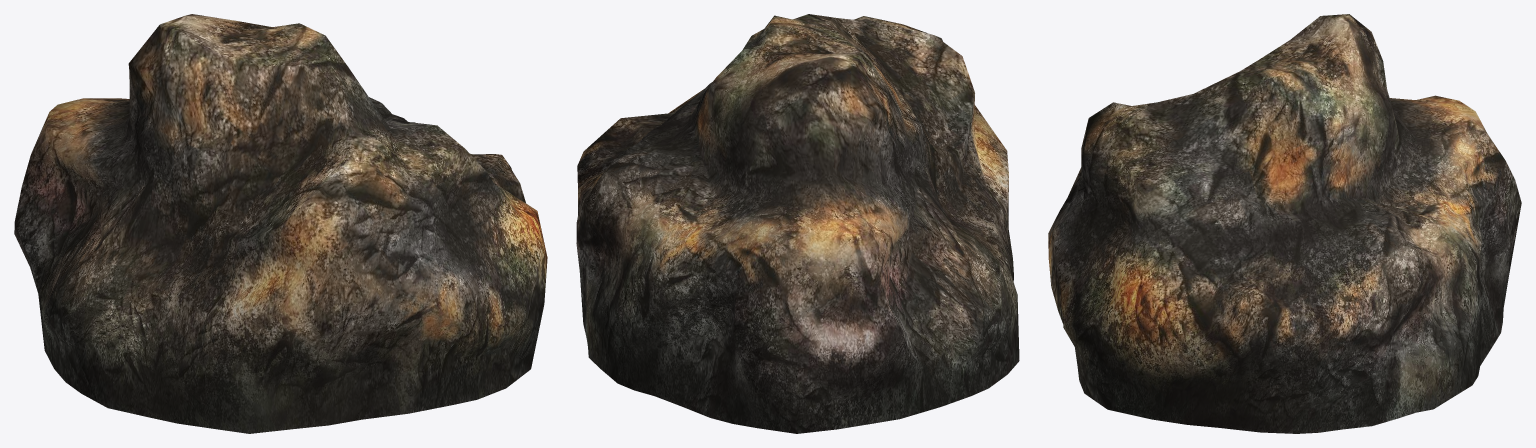
Rendered from iron_ore.glb.
3 renders of one model, left to right at view 1: azimuth 30°, elevation 25°; view 2: azimuth 150°, elevation 25°; view 3: azimuth 270°, elevation 25°, orthographic. The views are drawn at different scales.
Parts seen in each view (by area): view 1: Roca_Material.001_0; view 2: Roca_Material.001_0; view 3: Roca_Material.001_0.
Part boxes in pixels (x1=…): Roca_Material.001_0: x1=14, y1=14, x2=547, y2=433; Roca_Material.001_0: x1=576, y1=14, x2=1019, y2=433; Roca_Material.001_0: x1=1048, y1=14, x2=1521, y2=433.
Bounding box in the file's own units: 1.04 × 0.7288 × 1.05.
Materials: 1 (1 with a texture image).
